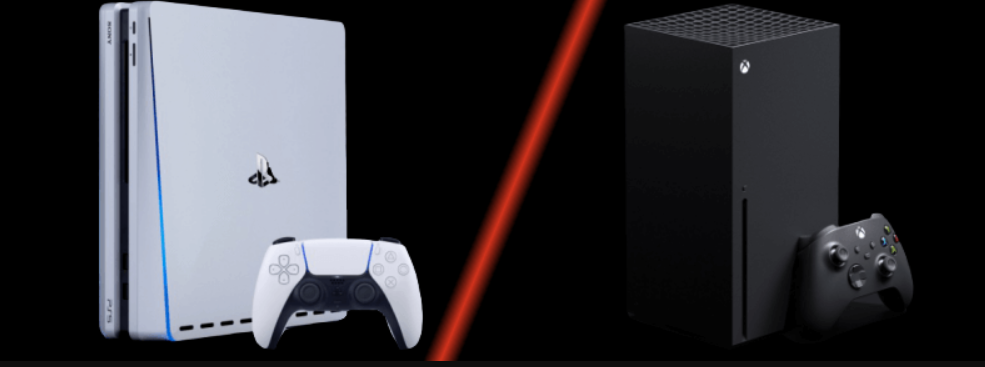gamingconsole: (251, 236, 424, 358), (796, 214, 913, 342)
